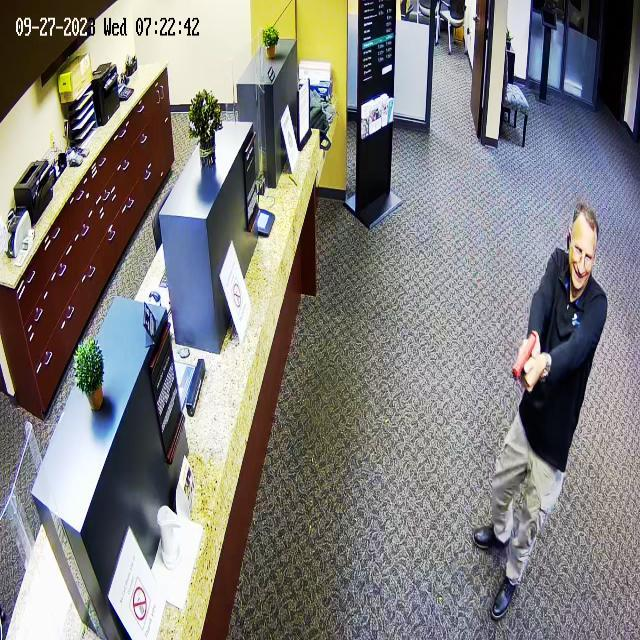Gun: (498, 322, 550, 393)
